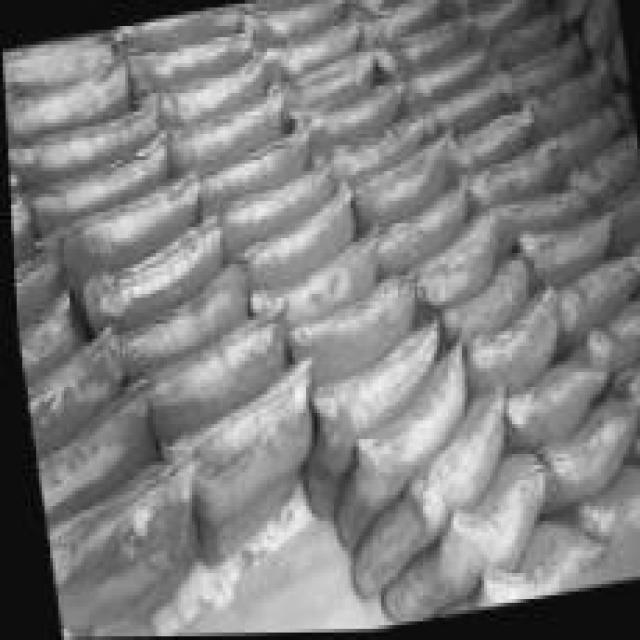gunny_bag: (345, 400, 498, 605), (374, 454, 536, 628), (164, 372, 304, 573), (327, 359, 464, 549), (297, 333, 432, 525), (43, 468, 176, 639), (142, 319, 281, 437), (30, 384, 144, 527), (78, 221, 217, 330), (57, 168, 195, 277), (114, 268, 244, 379), (425, 536, 587, 620), (20, 326, 116, 458), (283, 287, 410, 386), (6, 102, 156, 183), (21, 138, 166, 220), (249, 243, 379, 326), (241, 200, 353, 292), (455, 292, 552, 393), (406, 208, 500, 311), (535, 408, 630, 509), (208, 170, 322, 253), (169, 89, 279, 171), (4, 67, 121, 144), (498, 364, 600, 451), (349, 142, 447, 229), (295, 79, 398, 151), (199, 135, 299, 207), (128, 32, 249, 88), (375, 190, 465, 265), (463, 140, 549, 210), (549, 95, 627, 170), (555, 262, 636, 333), (517, 215, 604, 278), (285, 51, 372, 114), (496, 38, 579, 102), (273, 16, 356, 79), (375, 19, 463, 77), (576, 298, 640, 373), (425, 72, 501, 131), (457, 113, 524, 174), (357, 0, 438, 43), (11, 251, 55, 324), (455, 0, 525, 40), (496, 13, 556, 59), (603, 170, 640, 240), (612, 361, 640, 435), (584, 0, 618, 53), (565, 0, 589, 25)
